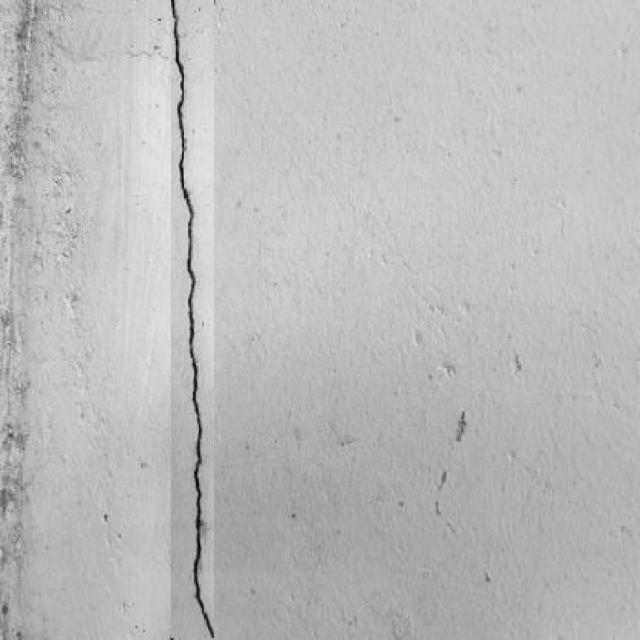vertical crack: (171, 0, 214, 637)
